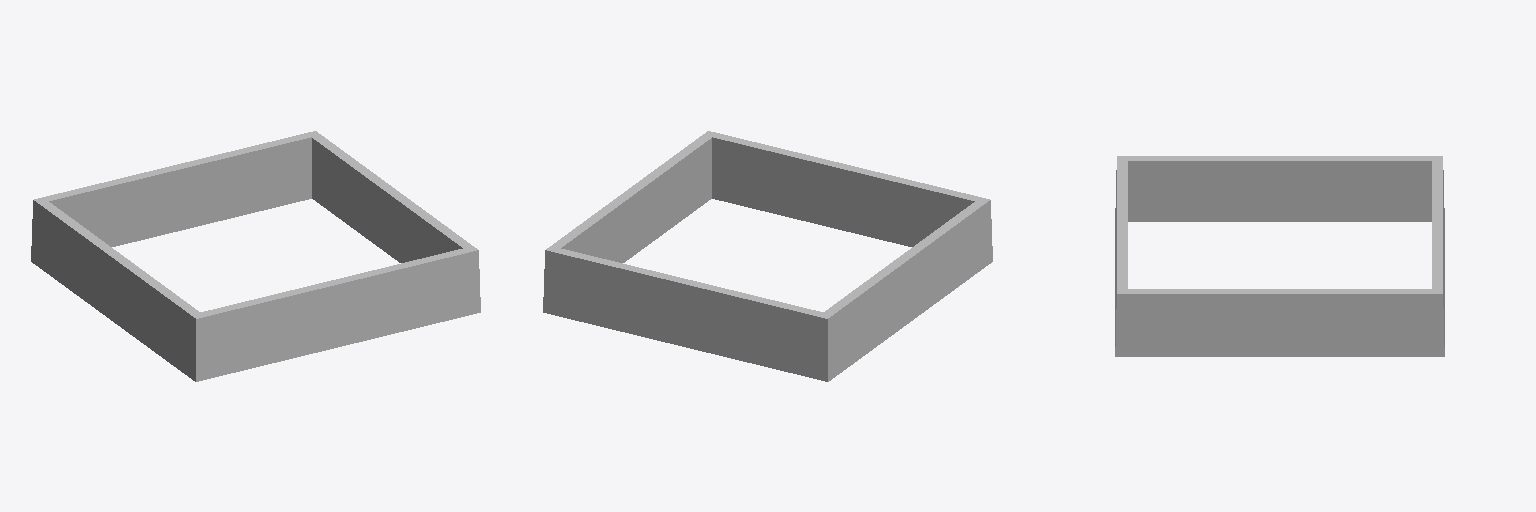
File: City01.obj
3 views of the same model, side by side, from view 1: azimuth 30°, elevation 25°; view 2: azimuth 150°, elevation 25°; view 3: azimuth 270°, elevation 25° (orthographic).
Visible parts, largest first — view 1: City01; view 2: City01; view 3: City01.
Part boxes in pixels (x1,y1,x2,y2): City01: (31, 131, 480, 381); City01: (543, 131, 992, 381); City01: (1115, 156, 1444, 356).
Bounding box in the file's own units: 2.4 × 0.5 × 2.4.